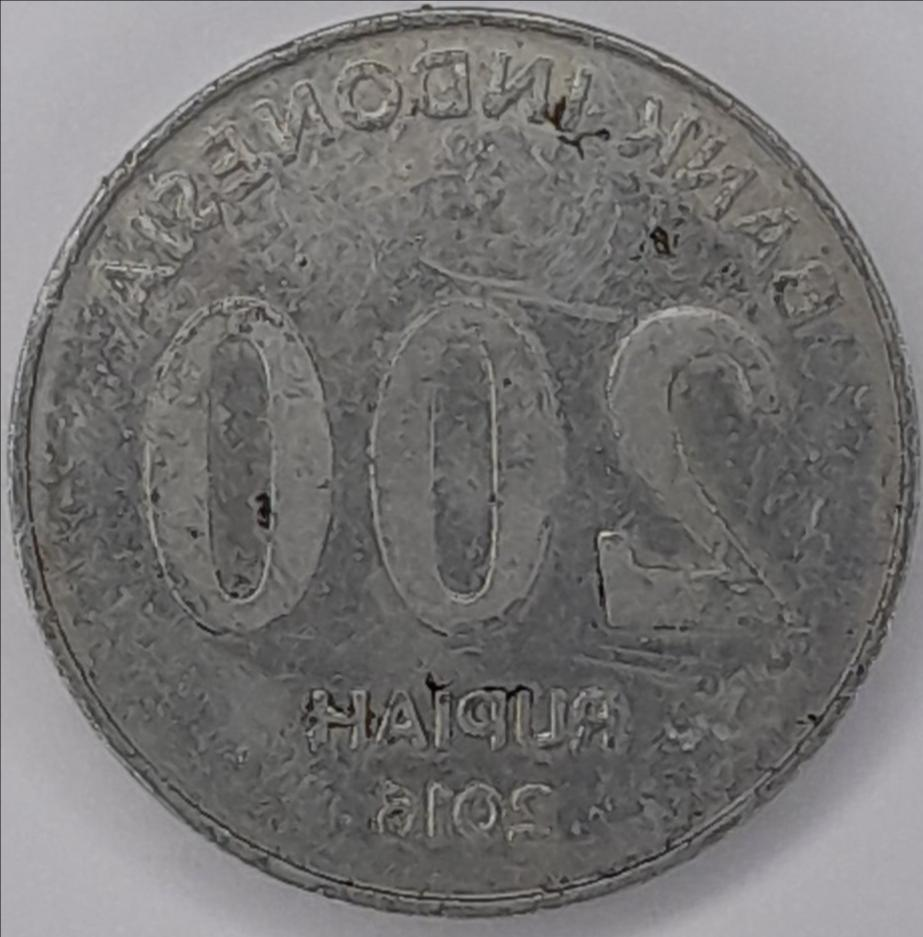coin_200_e2016: (0, 16, 923, 937)
